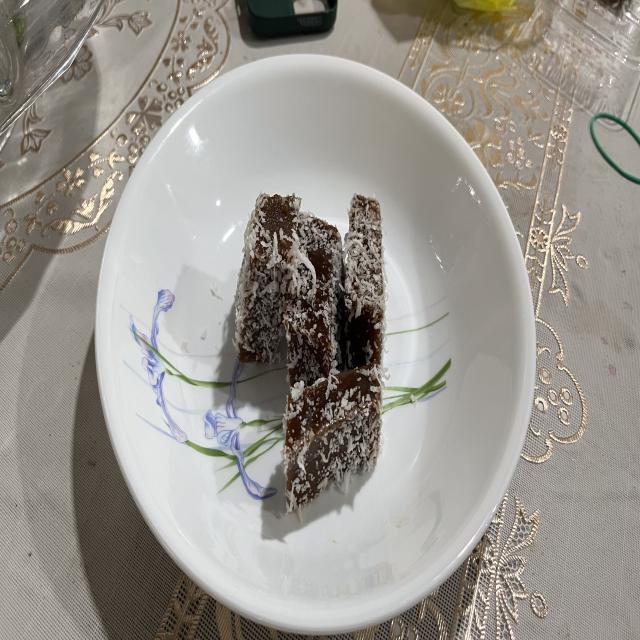kaswi: (282, 367, 382, 511), (235, 193, 300, 362), (284, 211, 342, 387), (344, 193, 386, 369)
